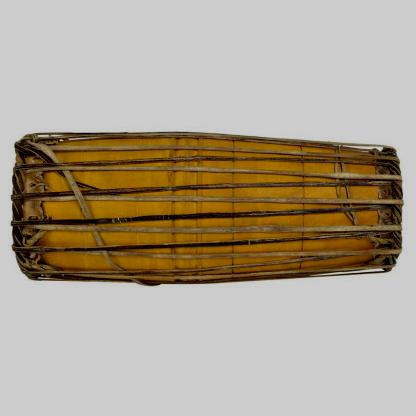Mridangam: (9, 108, 410, 306)
